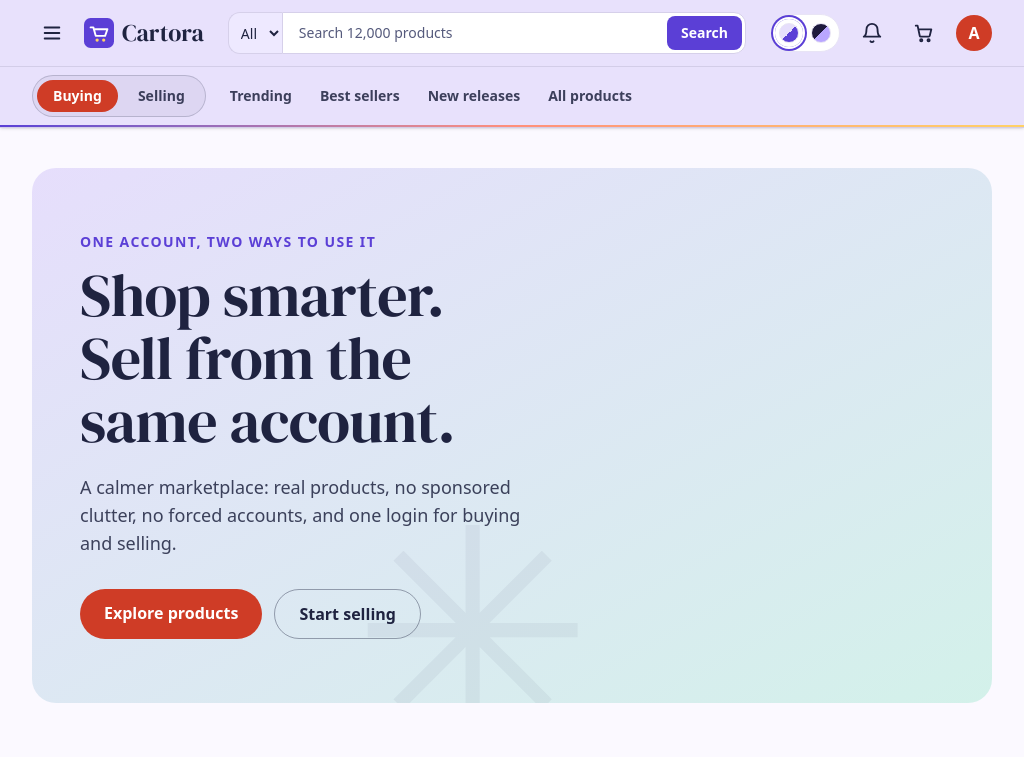
Test: header account area › closes the menu with Escape
Click the button named "account menu" at (974, 33), box [956,15,992,51]
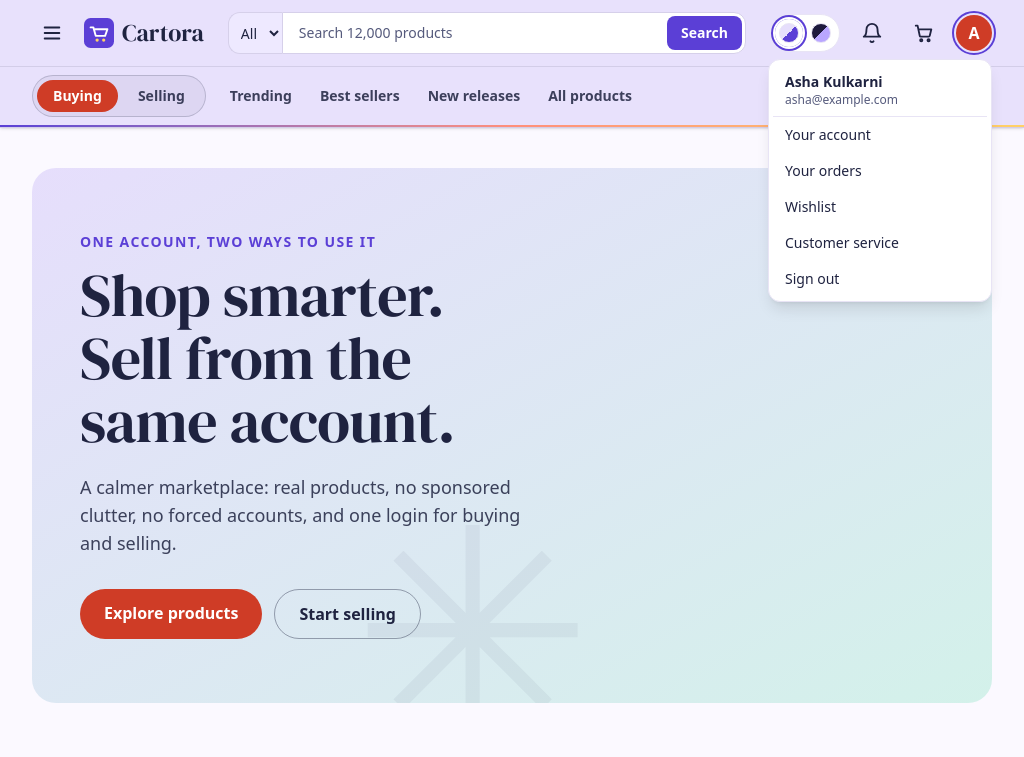
Press Escape
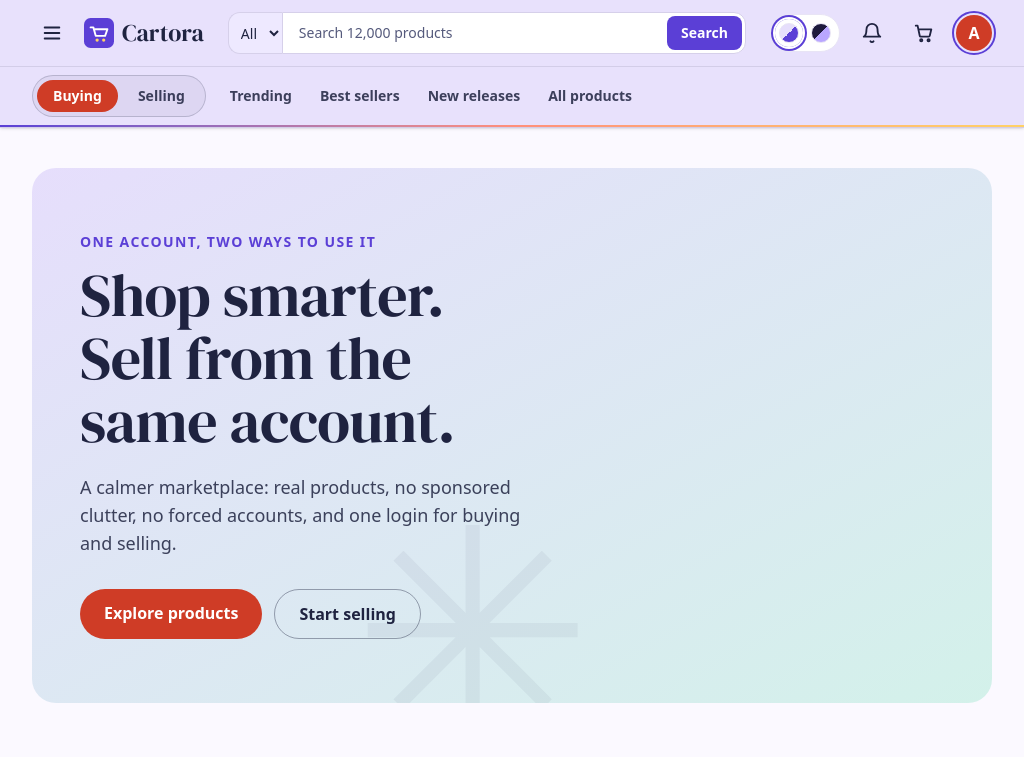
Now the menu is gone
